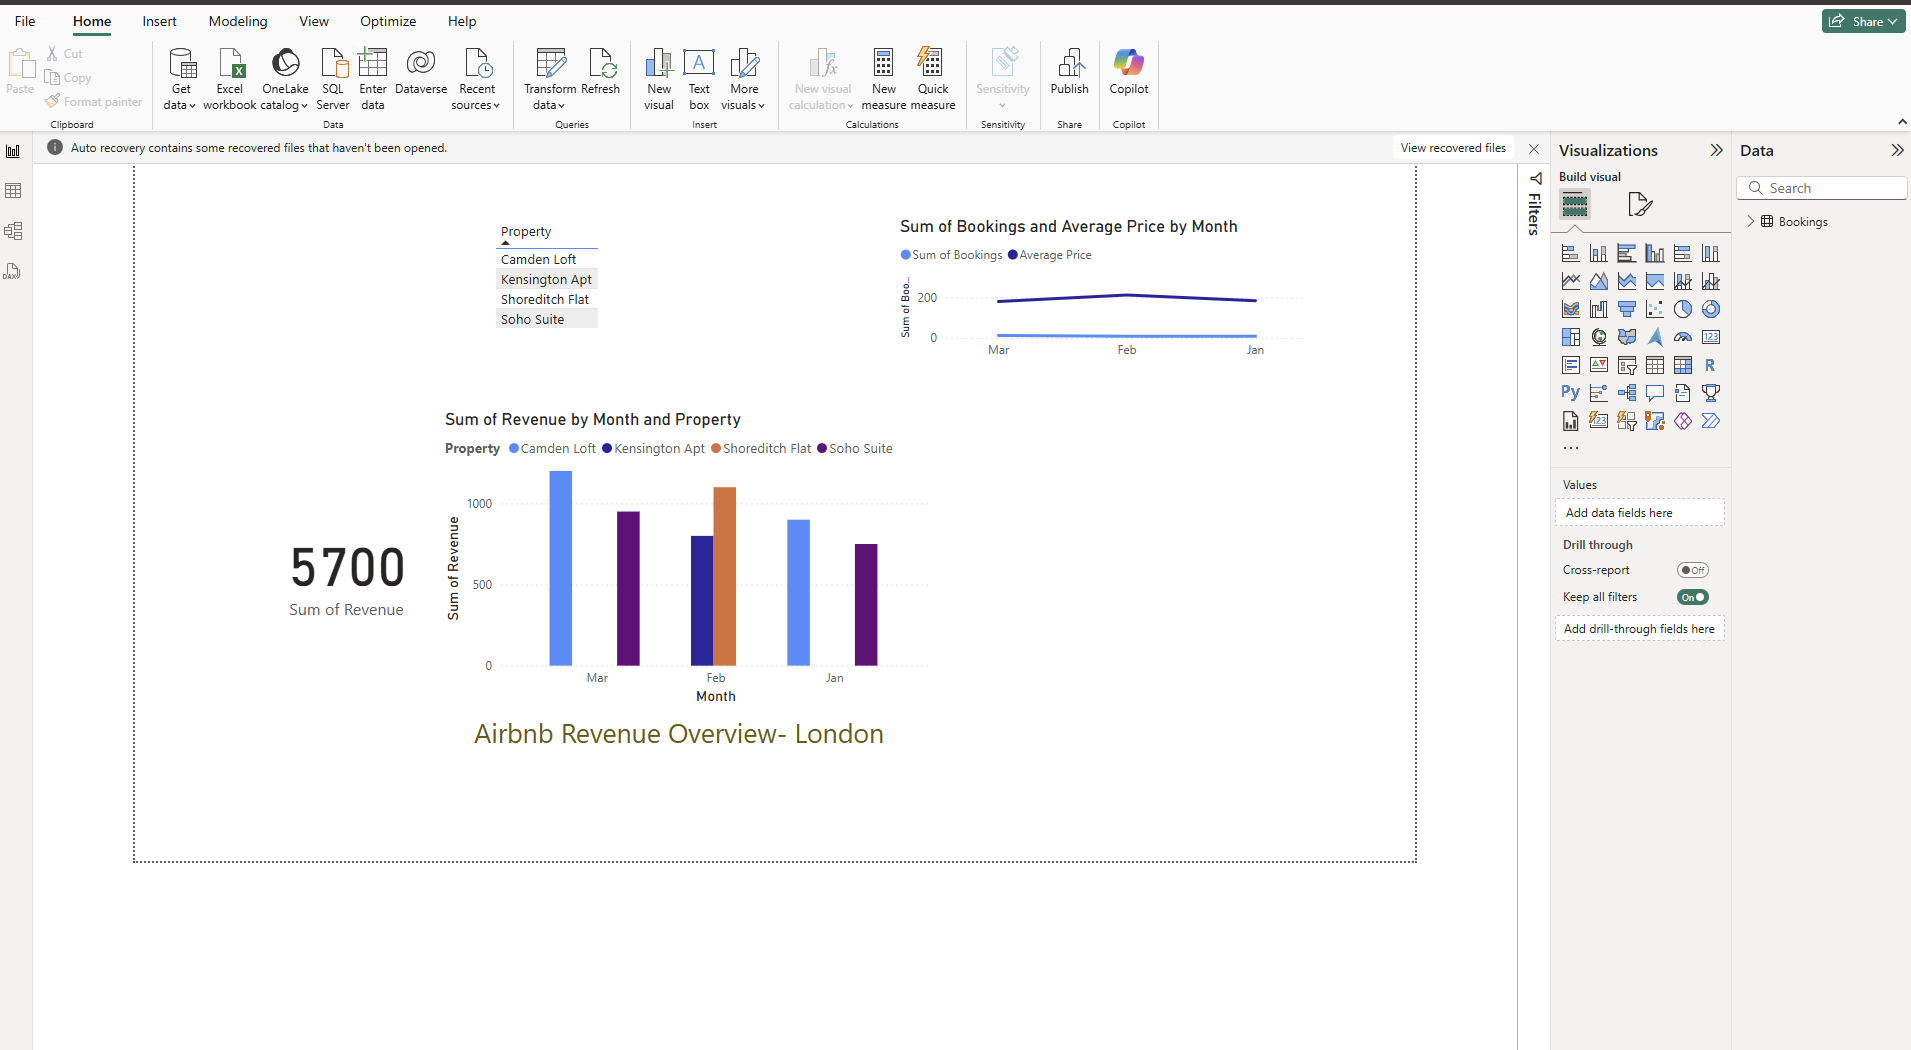

The page's visual inventory and layout, read from the dashboard file:
{"tool":"powerbi","page":{"name":"Page 1","canvas":[1280,720],"ordinal":0},"visuals":[{"type":"clusteredColumnChart","fields":{"Category":["Bookings.Month"],"Y":["Sum(Bookings.Revenue)"],"Series":["Bookings.Property"]},"box":[305.4,268.4,495.1,299.6],"z":0},{"type":"tableEx","fields":{"Values":["Bookings.Property"]},"box":[355,74.9,495.1,150.8],"z":1000},{"type":"textbox","box":[1094,75,186,151],"z":2000},{"type":"textbox","box":[334.3,568.4,932.9,151.2],"z":3000},{"type":"card","fields":{"Values":["Sum(Bookings.Revenue)"]},"box":[118.2,353.6,187.2,150.9],"z":4000},{"type":"lineChart","fields":{"Category":["Bookings.Month"],"Y":["Sum(Bookings.Bookings)","Bookings.Average Price"]},"box":[759.8,75.1,417.4,151.4],"z":7000}]}

Visuals, with their boxes on the page's 1280x720 design canvas (x1, y1, x2, y2). These are canvas units, not pixel positions in the 1911x1050 screenshot, which may show the page scaled, cropped or inside an application window:
clusteredColumnChart - Bookings.Month x Sum(Bookings.Revenue): <box>305,268,800,568</box>
tableEx - Bookings.Property: <box>355,75,850,226</box>
textbox: <box>1094,75,1280,226</box>
textbox: <box>334,568,1267,720</box>
card - Sum(Bookings.Revenue): <box>118,354,305,504</box>
lineChart - Bookings.Month x Sum(Bookings.Bookings): <box>760,75,1177,226</box>
